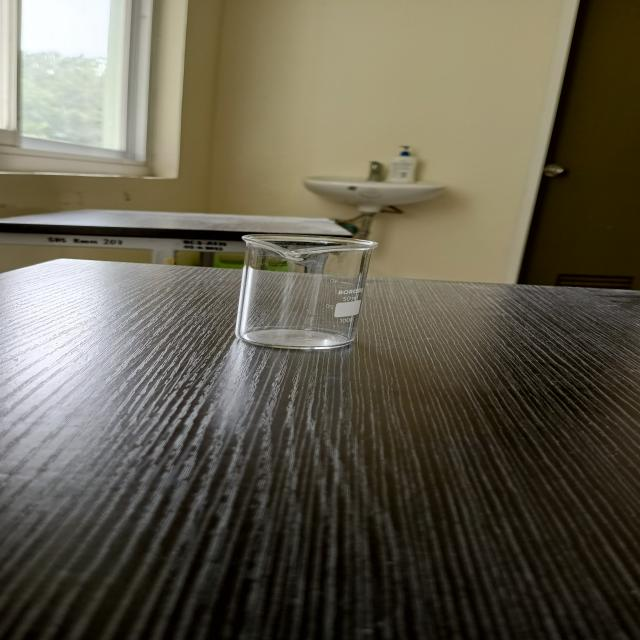beaker: (231, 226, 386, 354)
